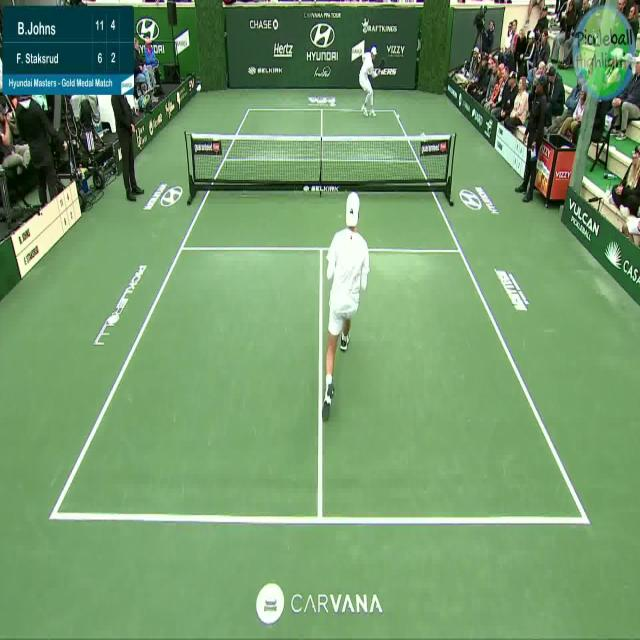Court: (53, 105, 589, 523)
